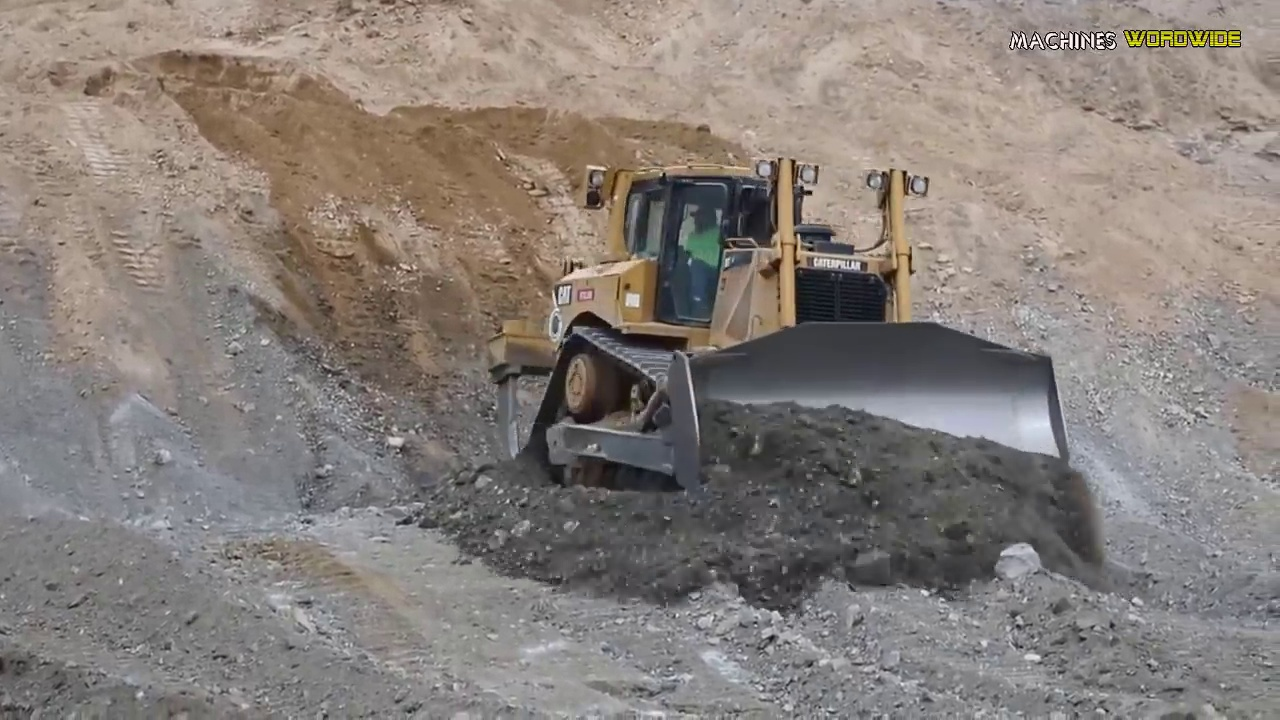bulldozer: (497, 152, 1087, 520)
